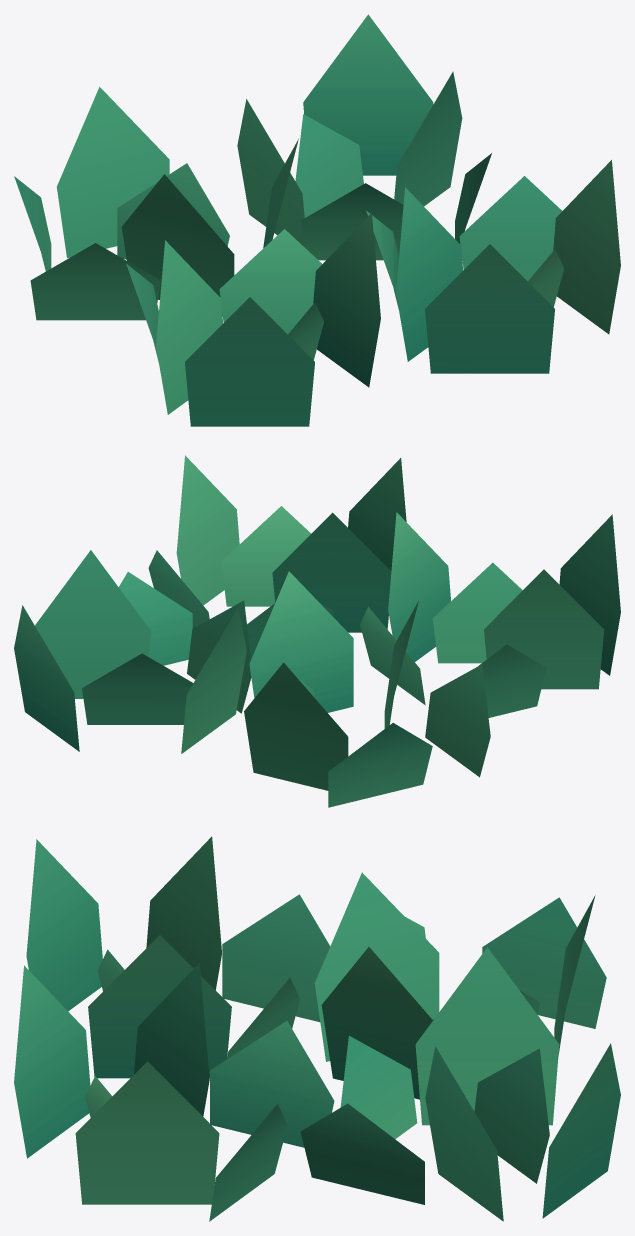
File: grass-large.glb
The picture shows the model from 3 angles, top to bottom: view 1: azimuth 30°, elevation 25°; view 2: azimuth 150°, elevation 25°; view 3: azimuth 270°, elevation 25°; orthographic projection. The views are drawn at different scales.
Parts seen in each view (by area): view 1: grass-large; view 2: grass-large; view 3: grass-large.
Part boxes in pixels (x1,y1,x2,y2): grass-large: (14, 14, 620, 426); grass-large: (14, 455, 620, 807); grass-large: (14, 836, 620, 1221).
Bounding box in the file's own units: 0.4759 × 0.1425 × 0.4873.
1 material, 1 textured.
